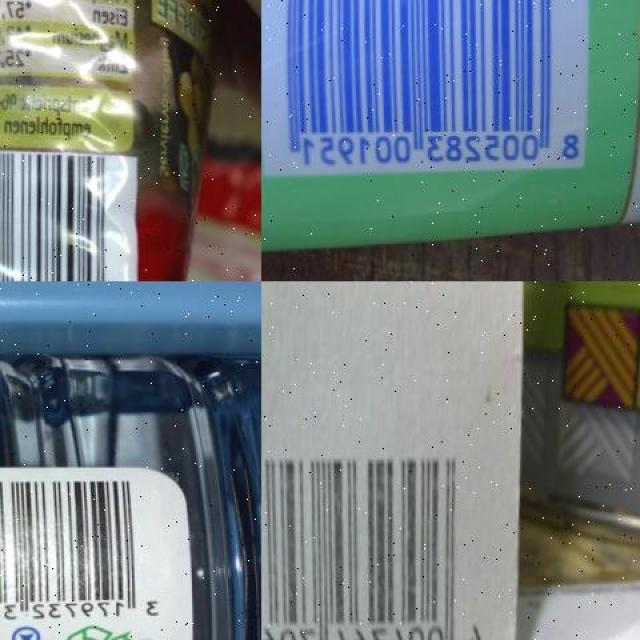Barcode: (261, 0, 588, 176), (261, 437, 499, 640), (0, 472, 165, 626), (0, 148, 143, 281)
